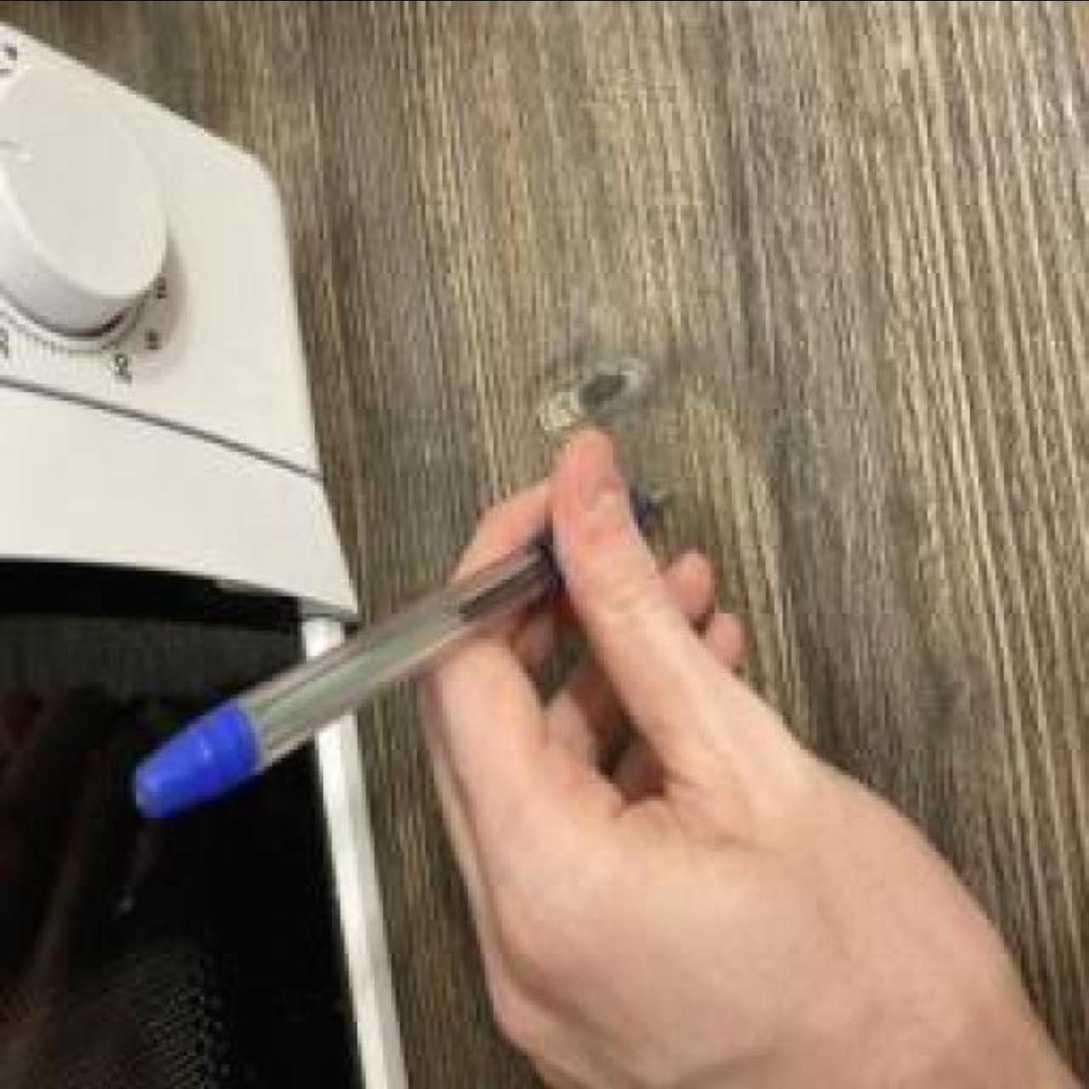pen: (133, 475, 677, 820)
